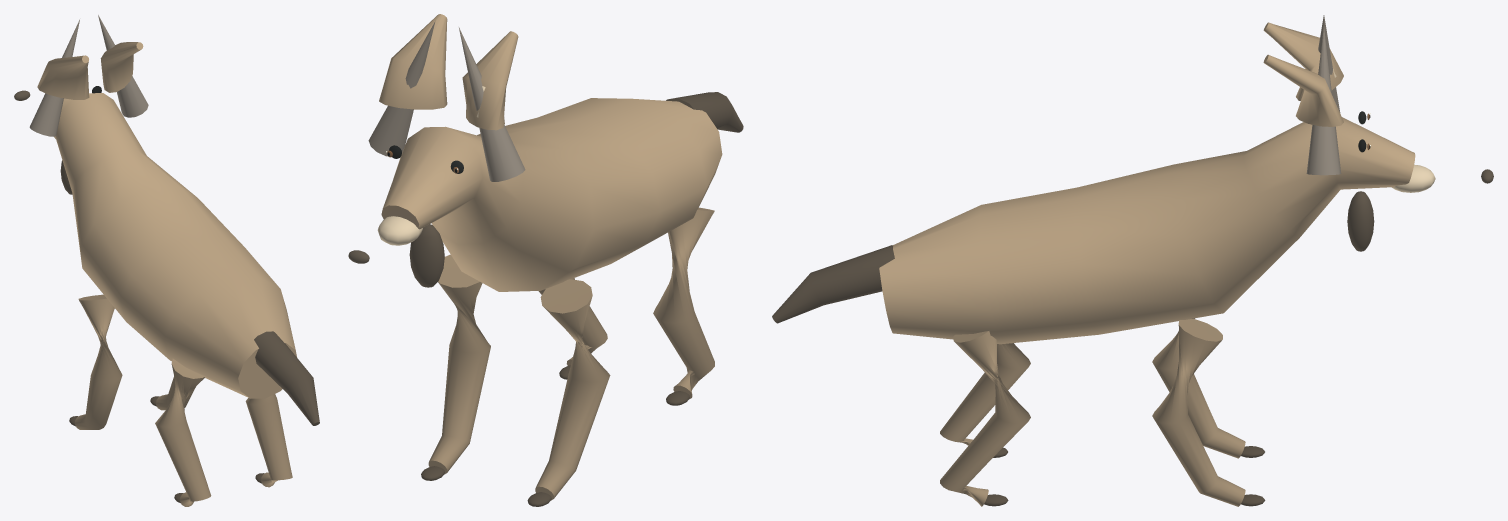
Rendered from goat_hero.glb.
3 views of the same model, side by side, from view 1: azimuth 30°, elevation 25°; view 2: azimuth 150°, elevation 25°; view 3: azimuth 270°, elevation 25° (orthographic). The views are drawn at different scales.
Visible parts, largest first — view 1: GoatOrganicBody, Leg_LH, Leg_LF, Tail, Leg_RH, Ear, Ear2, HornDetail_L, HornDetail_R, Leg_RF; view 2: GoatOrganicBody, Leg_LF, Leg_RF, Leg_LH, Ear2, Ear, HornDetail_L, HornDetail_R, BeardRuff, Tail, Muzzle, Leg_RH; view 3: GoatOrganicBody, Leg_RF, Leg_RH, Tail, Leg_LH, Leg_LF, Ear2, HornDetail_R, Ear, BeardRuff.
Boxes of the visible parts, x1,y1,x2,y2 form: GoatOrganicBody: [54, 93, 297, 398]; Leg_LH: [155, 358, 211, 506]; Leg_LF: [75, 294, 122, 429]; Tail: [254, 331, 319, 425]; Leg_RH: [245, 394, 292, 487]; Ear: [37, 55, 89, 99]; Ear2: [100, 42, 143, 92]; HornDetail_L: [29, 19, 79, 136]; HornDetail_R: [98, 15, 148, 117]; Leg_RF: [156, 376, 195, 410]; GoatOrganicBody: [381, 98, 722, 291]; Leg_LF: [535, 279, 610, 500]; Leg_RF: [428, 254, 490, 474]; Leg_LH: [653, 207, 714, 399]; Ear2: [379, 14, 447, 109]; Ear: [462, 31, 518, 130]; HornDetail_L: [459, 27, 525, 181]; HornDetail_R: [368, 21, 435, 156]; BeardRuff: [409, 224, 444, 287]; Tail: [666, 92, 743, 132]; Muzzle: [377, 216, 422, 245]; Leg_RH: [538, 278, 607, 365]; GoatOrganicBody: [879, 117, 1415, 344]; Leg_RF: [1152, 319, 1245, 506]; Leg_RH: [940, 331, 1030, 506]; Tail: [772, 245, 894, 323]; Leg_LH: [940, 343, 1030, 445]; Leg_LF: [1152, 318, 1245, 458]; Ear2: [1263, 54, 1343, 126]; HornDetail_R: [1306, 26, 1341, 175]; Ear: [1263, 22, 1343, 100]; BeardRuff: [1347, 191, 1374, 251].
Bounding box in the file's own units: 0.96 × 2.65 × 3.76.
